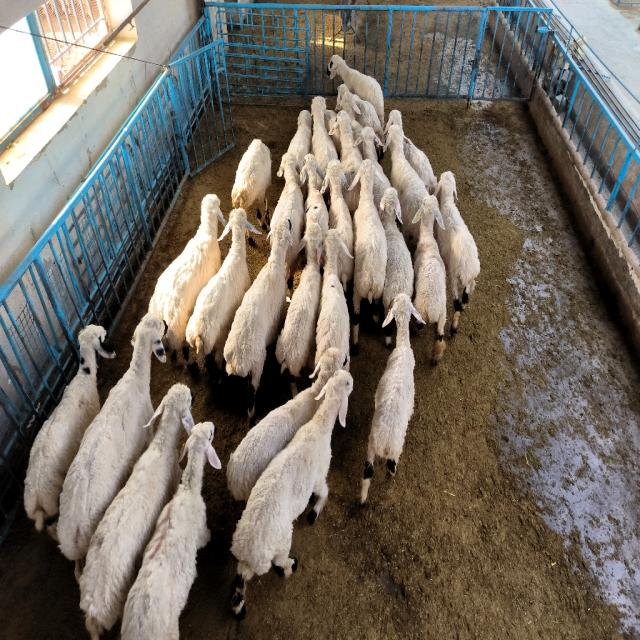sheep: (231, 370, 352, 617), (79, 385, 194, 638), (58, 313, 166, 578), (121, 422, 221, 640), (24, 325, 115, 531), (226, 348, 344, 500), (224, 218, 292, 424), (360, 293, 424, 502), (186, 208, 259, 385), (149, 193, 226, 359), (276, 222, 324, 396), (435, 172, 480, 334), (352, 158, 388, 352), (414, 195, 446, 362), (386, 125, 429, 242), (315, 228, 350, 369), (379, 187, 414, 314), (321, 160, 354, 291), (271, 152, 304, 279), (328, 55, 384, 124), (231, 138, 271, 230), (331, 110, 362, 216), (355, 127, 391, 209), (336, 85, 382, 140), (300, 153, 329, 234), (311, 97, 338, 174), (404, 137, 438, 194), (288, 110, 312, 168), (385, 110, 402, 132)
